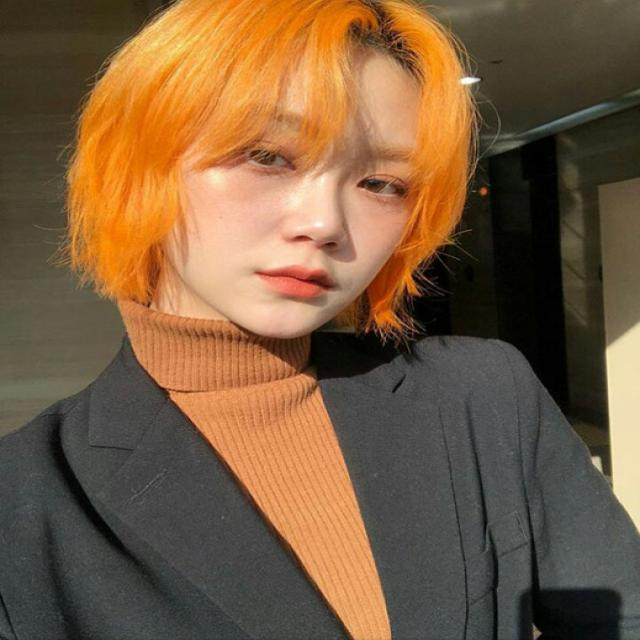Nonhelmet: (53, 1, 486, 344)
